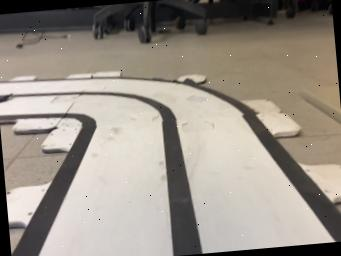street: (0, 74, 341, 256), (0, 74, 341, 256), (0, 74, 341, 256)
